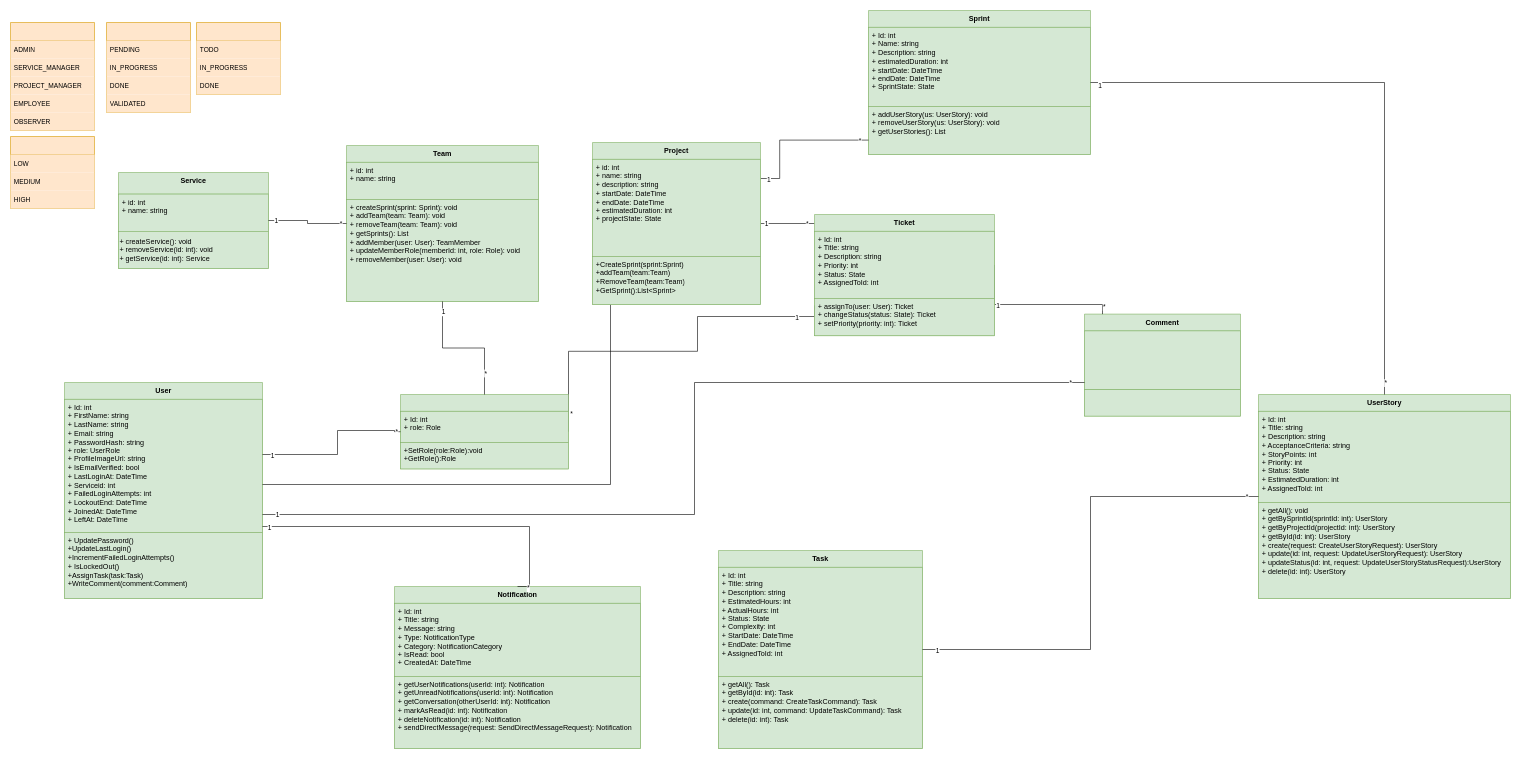
The diagram is 1521 pixels wide and 761 high, and some of its shapes have lost their labels. The shapes that lost their labels are listed below. From the top down, each one's box as (x1, y1, x2, y2) in pixels, then its label:
(10, 22, 94, 130): Role
(106, 22, 190, 112): ProjectStatus
(196, 22, 280, 94): TaskStatus
(10, 136, 94, 208): Priority
(1084, 330, 1240, 390): + Id: int + Content: string + CreationDate: DateTime
(1084, 389, 1240, 416): + edit(content: string): Comment + delete(): Comment
(400, 394, 568, 469): TeamMember
